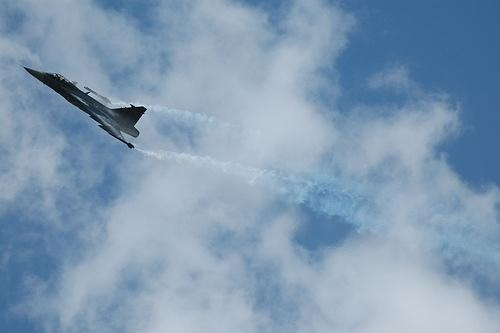aeroplane: (22, 64, 148, 148)
